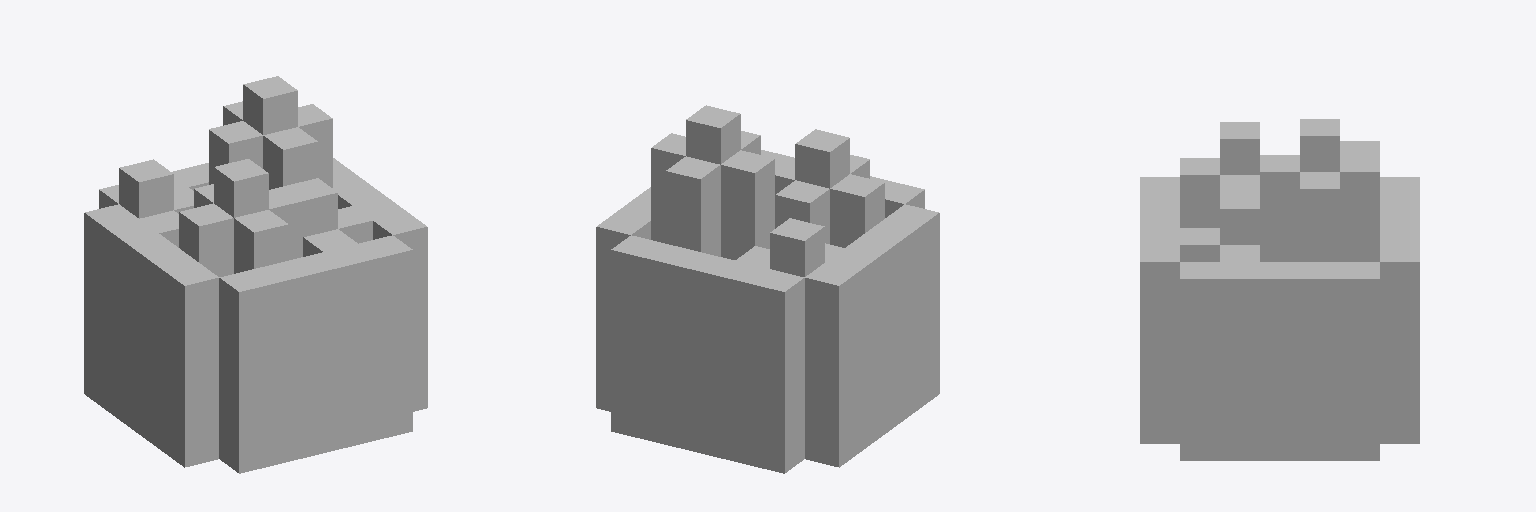
The model's file is 3D Voxel Office Pack-24.obj.
The picture shows the model from 3 angles: view 1: azimuth 30°, elevation 25°; view 2: azimuth 150°, elevation 25°; view 3: azimuth 270°, elevation 25°; orthographic projection.
Parts seen in each view (by area): view 1: object 1; view 2: object 1; view 3: object 1.
Part boxes in pixels (left/top/right/bottom): object 1: left=84, top=76, right=427, bottom=473; object 1: left=596, top=105, right=939, bottom=473; object 1: left=1140, top=119, right=1419, bottom=460.
Bounding box in the file's own units: 0.7 × 0.8 × 0.7.